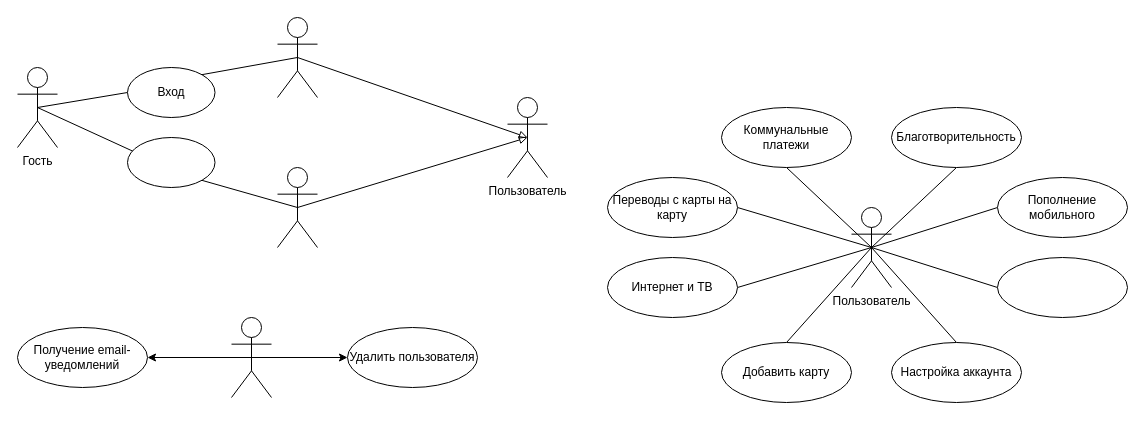
This 1145x436 diagram has some shape labels left out. Each missing label, with the box of its shape:
Авторизировавшийся пользователь: (276, 16, 318, 98)
Администратор: (230, 316, 272, 398)
Кредит: (996, 256, 1128, 318)
Новый пользователь: (276, 166, 318, 248)
Регистрация: (126, 136, 215, 188)
